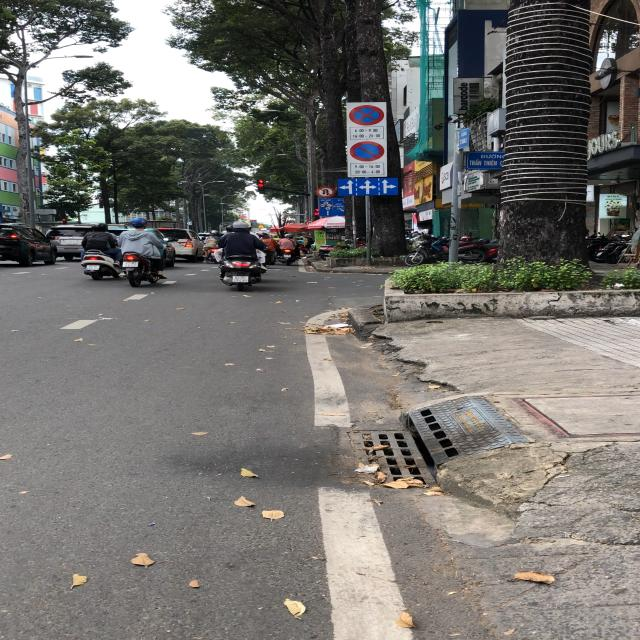Bien bao cam do xe: (349, 138, 385, 164)
Bien bao cam dung xe va do xe: (348, 103, 383, 126)
Bien bao cam quay dau xe: (314, 184, 334, 196)
